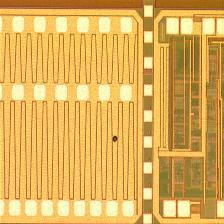PIQ PARTICLE: (110, 134, 122, 146)
